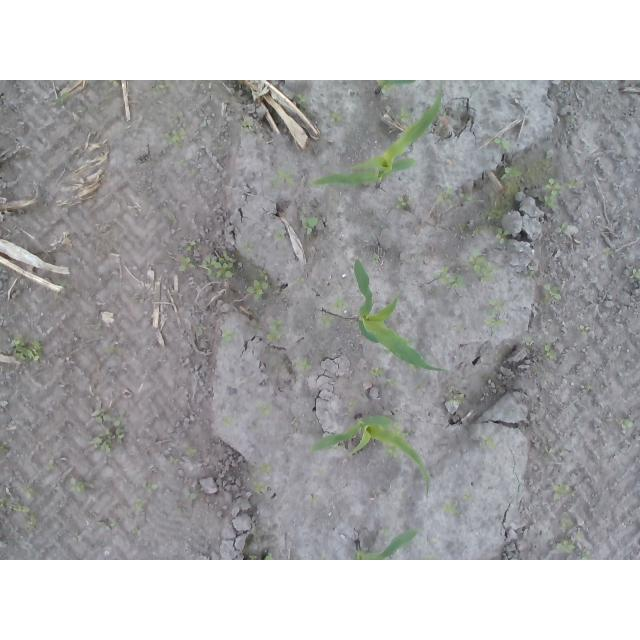Maize: (315, 84, 444, 189), (354, 258, 451, 375), (307, 415, 434, 497), (353, 526, 420, 560), (375, 80, 418, 93)
Weeds: (95, 414, 130, 449), (205, 249, 238, 279), (246, 269, 274, 303), (466, 249, 495, 281), (10, 335, 43, 362), (436, 187, 481, 205), (482, 297, 507, 327), (541, 174, 561, 210), (436, 267, 465, 290), (265, 318, 289, 342), (160, 127, 188, 145), (1, 496, 32, 512), (179, 241, 195, 272), (150, 80, 176, 96), (271, 169, 293, 187), (24, 513, 40, 536), (488, 137, 512, 152), (303, 216, 320, 237), (49, 91, 72, 106), (554, 482, 571, 502), (448, 387, 465, 406), (255, 398, 273, 415), (394, 194, 413, 210), (70, 477, 87, 494), (543, 288, 561, 304), (559, 538, 577, 554), (0, 439, 16, 457), (500, 166, 522, 179), (331, 297, 351, 311), (481, 432, 496, 448), (142, 479, 159, 493), (545, 342, 558, 360), (622, 417, 635, 435), (495, 226, 509, 242), (251, 480, 265, 496), (320, 313, 336, 327), (223, 328, 236, 344), (384, 446, 400, 459), (560, 516, 577, 528), (346, 400, 358, 417), (400, 104, 412, 121), (275, 223, 286, 241), (294, 358, 312, 369), (444, 502, 459, 515), (131, 500, 146, 513), (368, 366, 385, 376), (185, 446, 200, 457), (241, 242, 256, 253), (578, 324, 591, 336), (241, 116, 253, 129), (330, 111, 342, 124), (567, 178, 581, 189), (261, 461, 272, 475), (223, 415, 234, 429), (522, 335, 534, 347), (576, 552, 592, 561), (20, 486, 32, 497), (101, 522, 116, 530), (368, 256, 381, 265), (184, 492, 197, 501), (601, 248, 615, 256), (491, 209, 501, 220), (176, 159, 188, 167), (196, 324, 204, 336), (404, 432, 417, 439), (296, 95, 305, 105), (568, 114, 577, 124), (560, 223, 568, 234), (263, 552, 274, 560), (170, 456, 179, 465), (632, 269, 640, 279), (457, 222, 466, 230), (527, 270, 535, 279), (424, 556, 438, 561), (383, 527, 390, 537), (294, 276, 304, 283), (112, 80, 120, 88), (576, 533, 585, 540), (248, 553, 257, 560), (584, 383, 593, 390), (387, 379, 397, 385), (462, 493, 470, 500), (59, 282, 65, 288)
